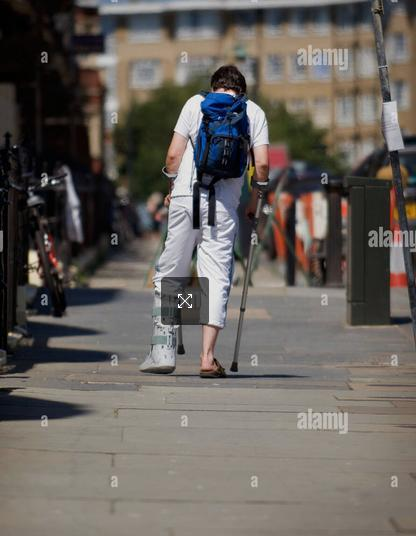crutches: (142, 55, 271, 388)
